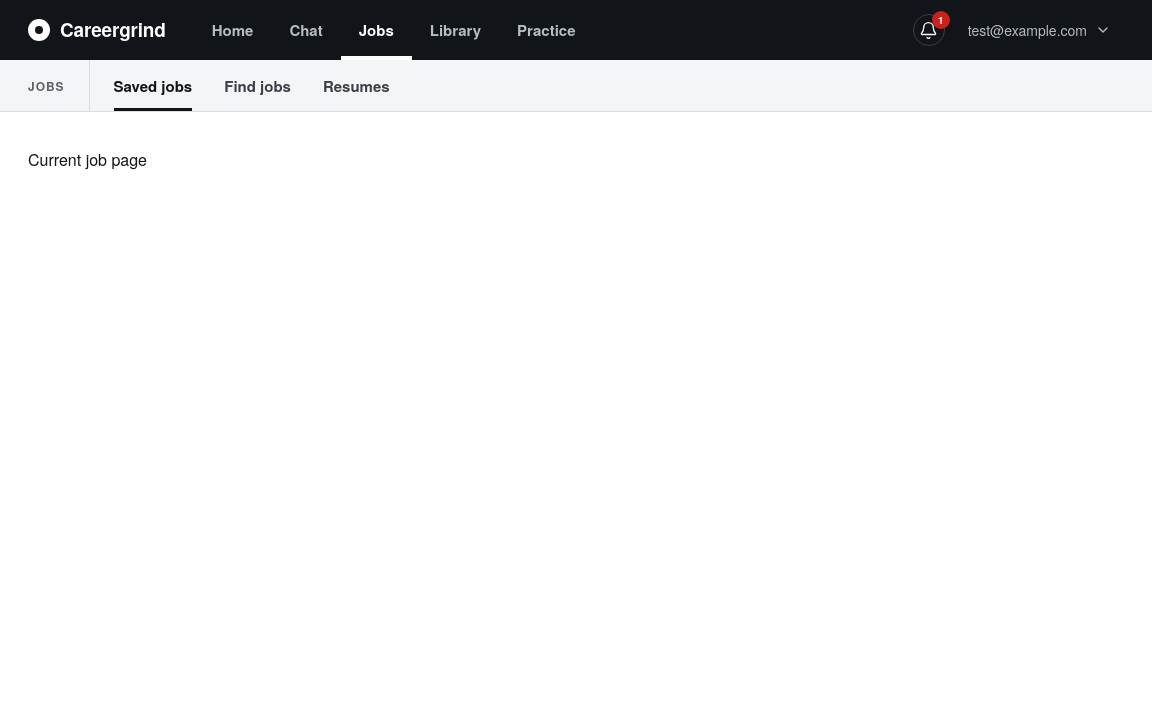
opens the result, closes the inbox, and removes the notice
The width and height of the screenshot is (1152, 720).
Click the button named "Notifications, 1 unread" at [929, 30], box [907,8,951,52]
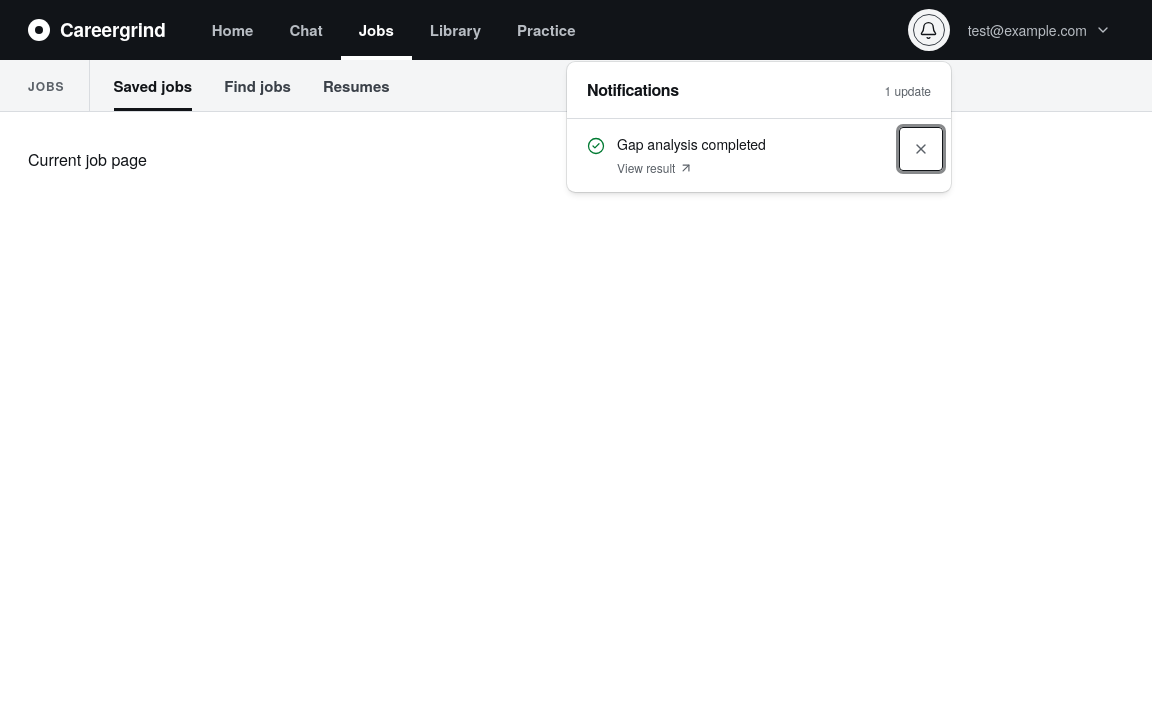
Click the link "Gap analysis completed View result" at [676, 155], box [587,134,766,176]
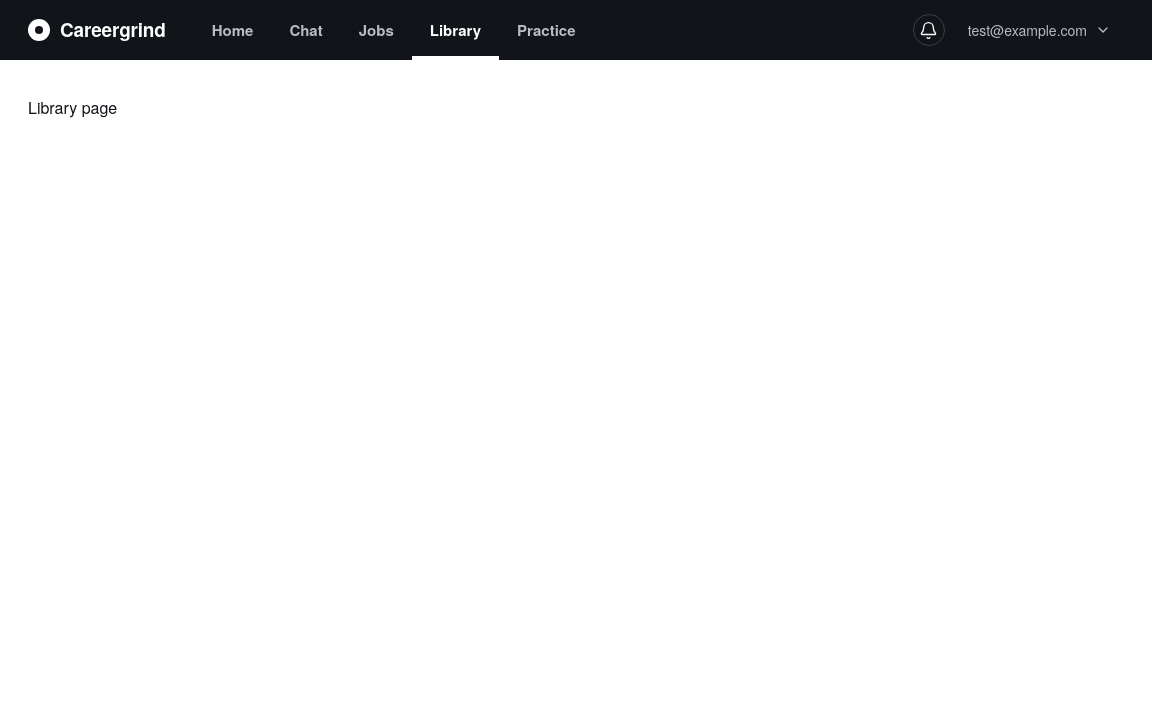
Expected: the dialog is gone
Click the button named "Notifications" at [929, 30], box [907,8,951,52]
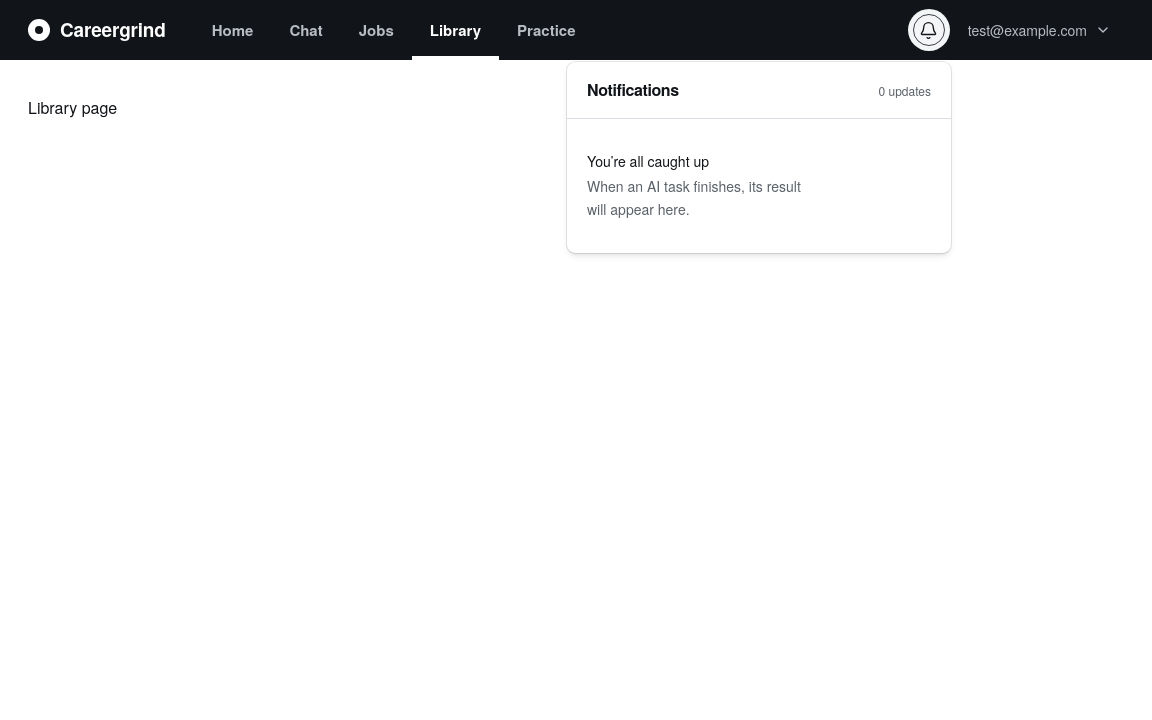
Expected: the text "You’re all caught up" is shown, [587,151,709,171]
